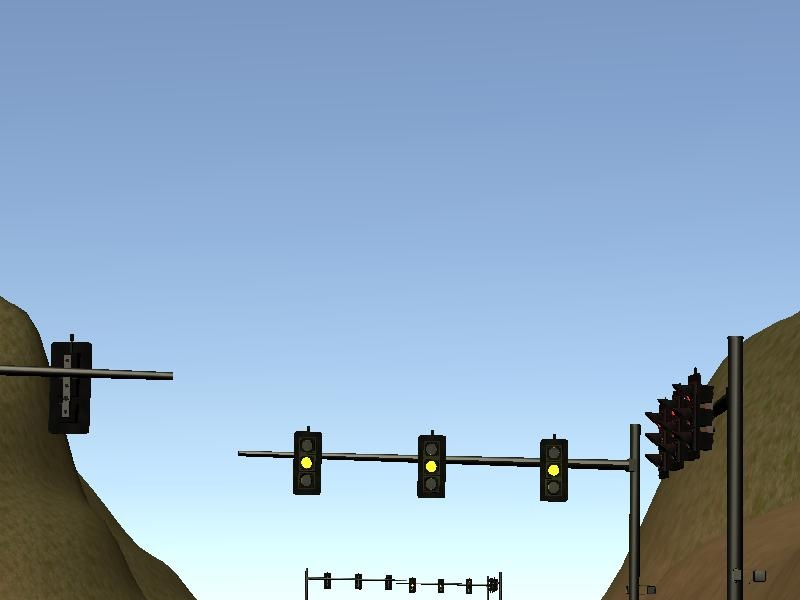yellow: (416, 435, 447, 499), (292, 433, 323, 497), (539, 439, 568, 503), (409, 578, 417, 594), (439, 578, 444, 594)
